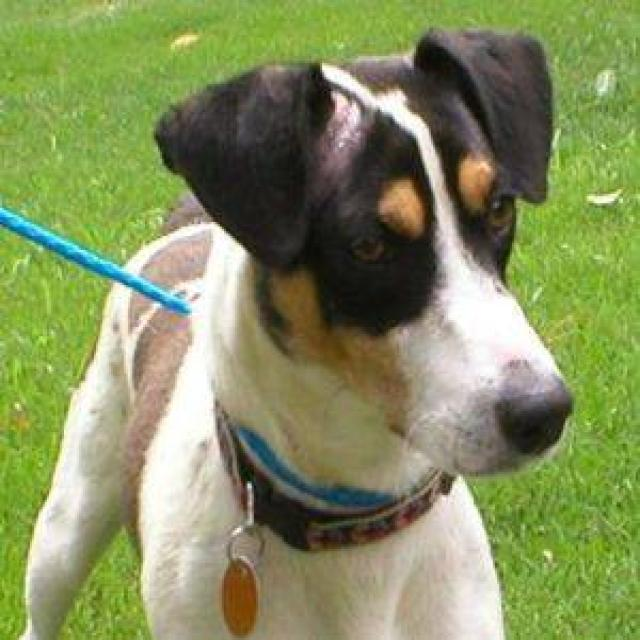dog: (0, 23, 574, 638)
